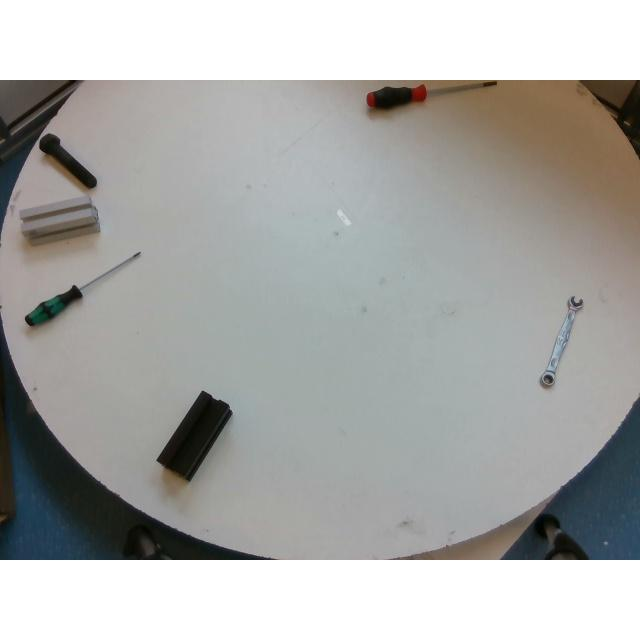M20_100: (39, 132, 97, 188)
S40_40_B: (156, 392, 232, 481)
S40_40_G: (19, 195, 99, 243)
Screwdriver: (25, 252, 141, 324)
Wrench: (539, 296, 583, 388)
